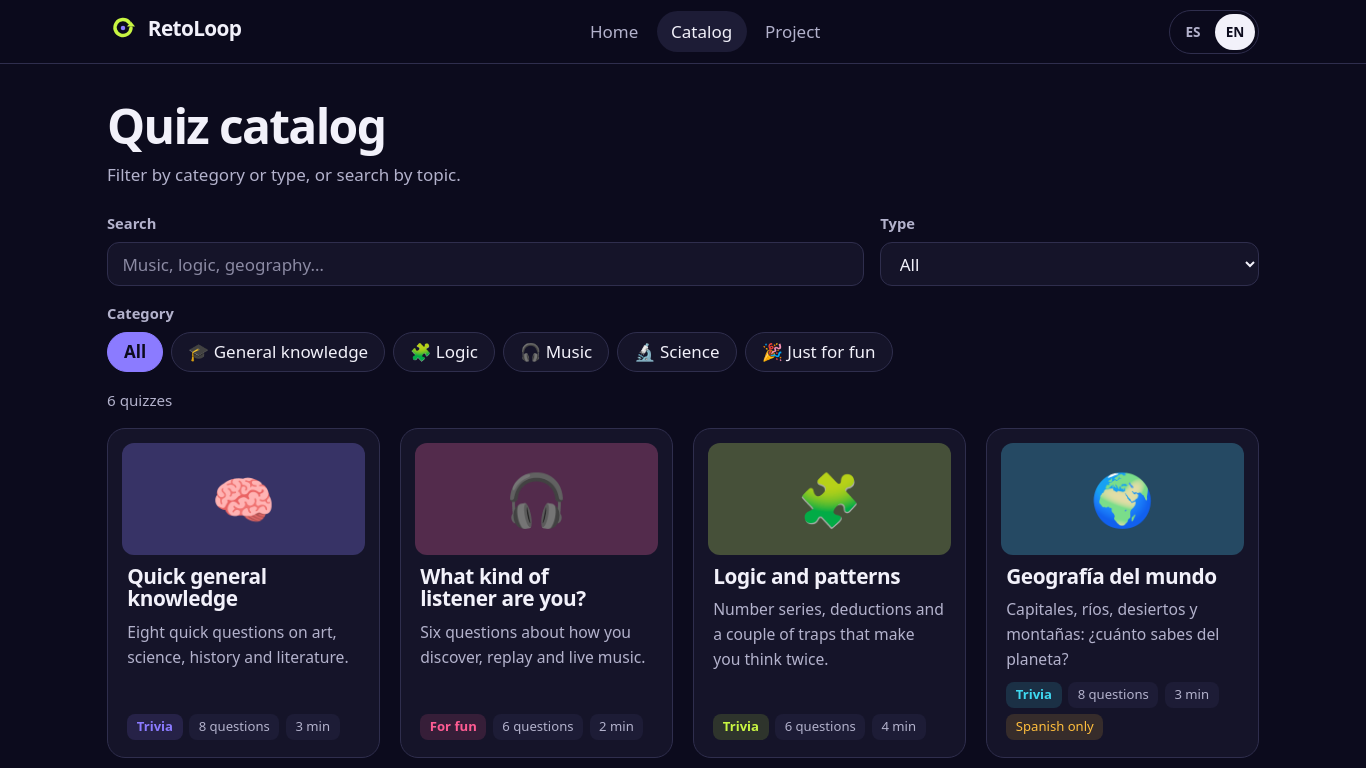
idioma › avisa de lo que aún no está traducido
Expected: the heading "Quiz catalog" is shown, [107, 93, 385, 158]
Click the link "Geografía del mundo": (1111, 576) [1006, 562, 1217, 590]
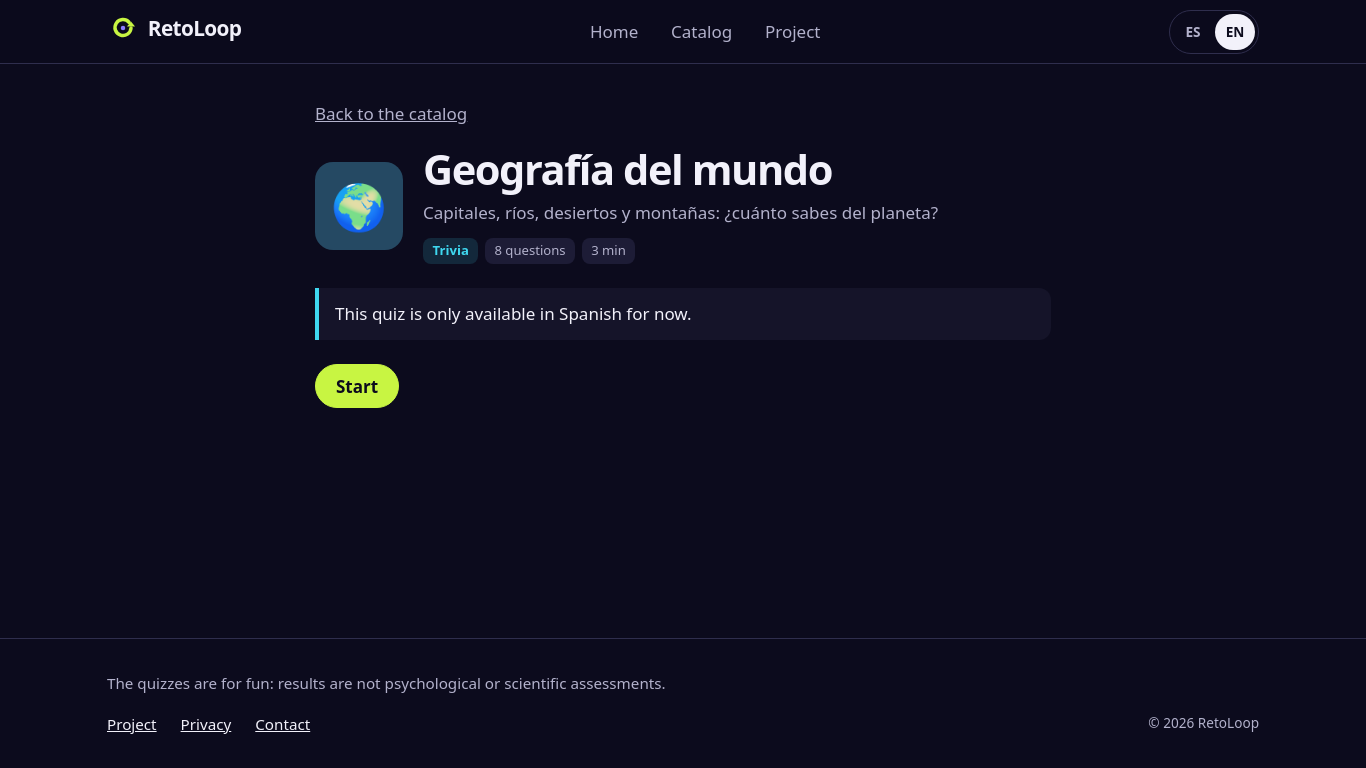
Expected: the text "This quiz is only available in Spanish for now." is shown, [315, 288, 1051, 340]
